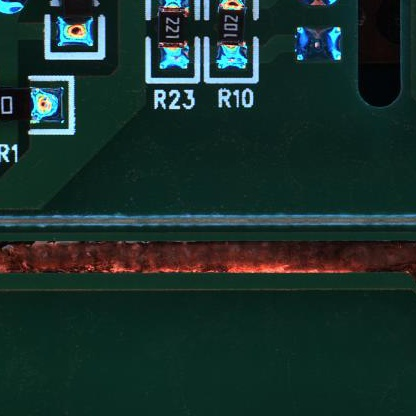spot: (294, 24, 345, 64)
